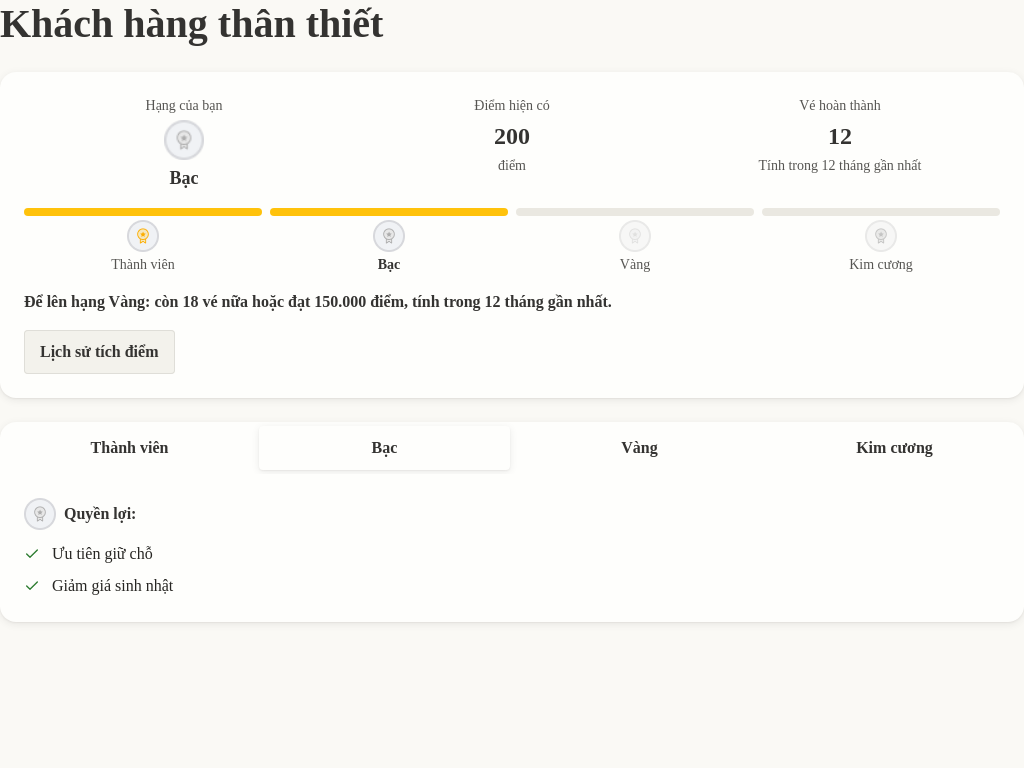
Test case: LoyaltyPage › lịch sử: luôn có nút, trạng thái rỗng, chuỗi mô tả được escape, đơn vị điểm, hai dạng ngày
The image size is (1024, 768).
Click the button "Lịch sử tích điểm" at (99, 352), box [24,330,174,374]
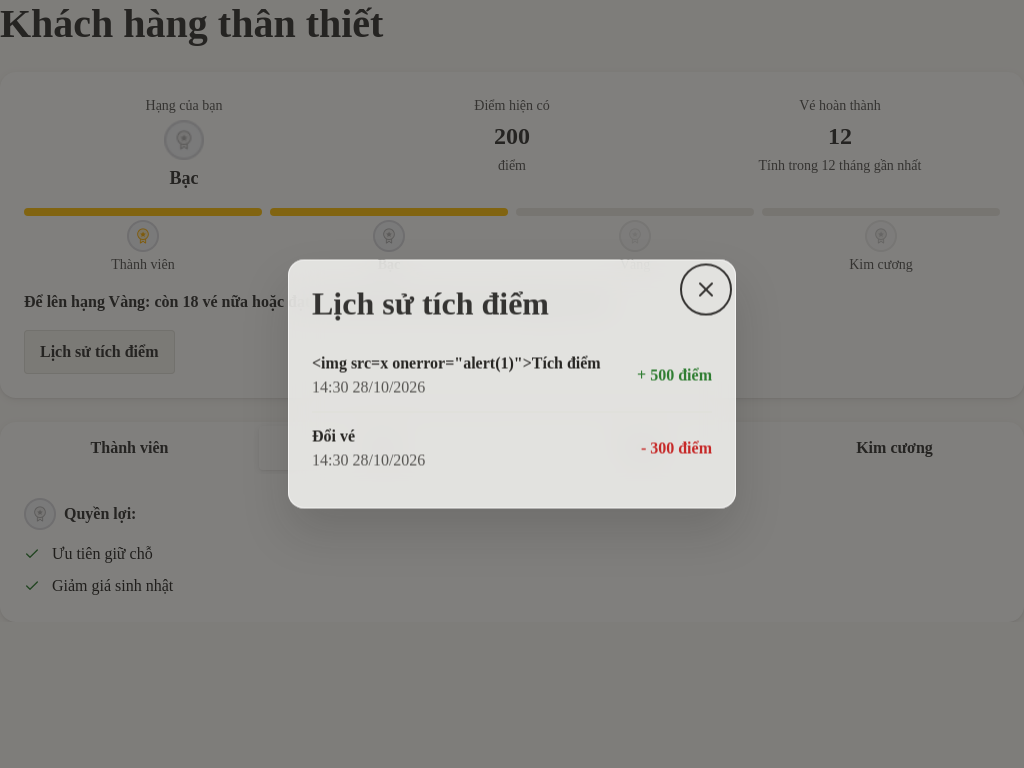
Now the text "<img src=x onerror=\"alert(1)\">Tích điểm" is shown, box [312,352,625,376]
Now the text "14:30 28/10/2026" is shown 2 times, box [312,378,425,396]; [312,452,425,468]
Now the text "+ 500 điểm" is shown, box [637,364,712,388]
